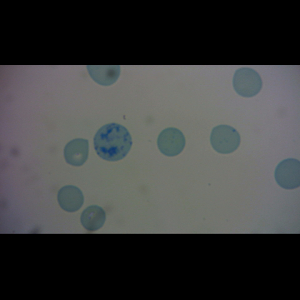aggregate reticulocyte: (93, 122, 133, 162)
erythrocyte: (233, 67, 263, 98), (57, 185, 84, 213), (64, 137, 90, 166), (80, 205, 107, 232)
punctate reticulocyte: (210, 124, 240, 154), (157, 127, 185, 157)
